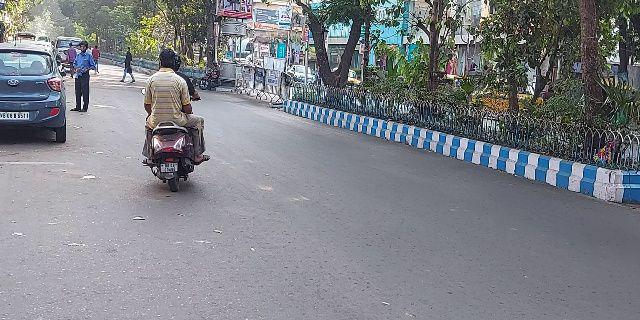Car: (1, 39, 68, 149)
Motorbike: (140, 49, 210, 193)
